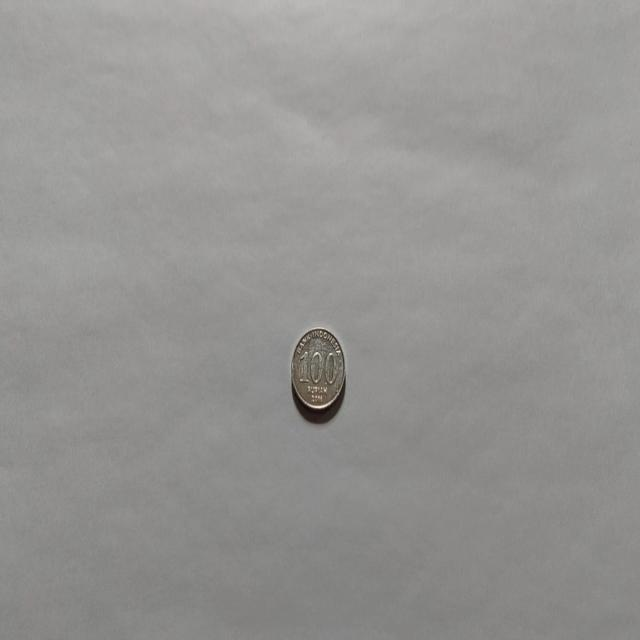seratus rupiah: (290, 326, 346, 414)
